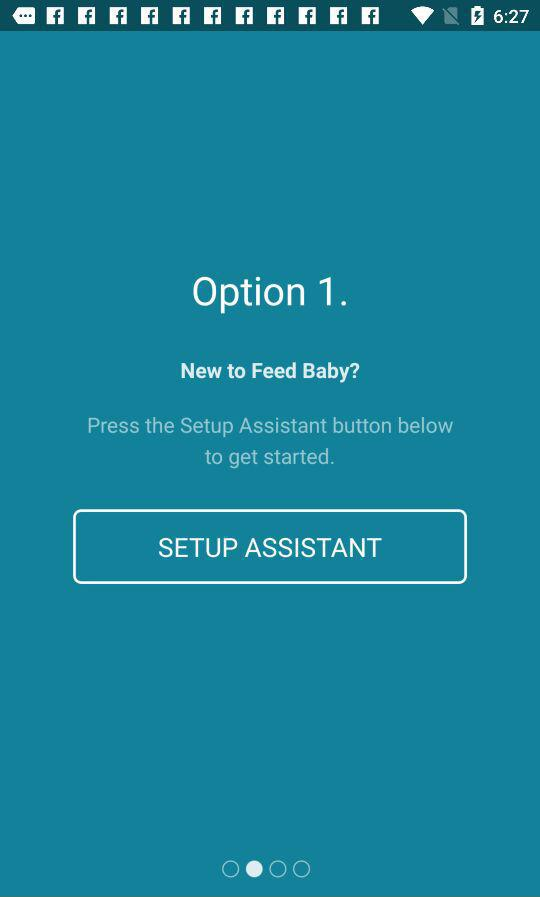PageIndicator: (220, 858, 313, 880)
Text: (88, 416, 454, 470), (193, 277, 348, 315), (181, 362, 361, 384)
TextButton: (73, 509, 468, 585)
UpperTaskBar: (1, 1, 540, 33)
